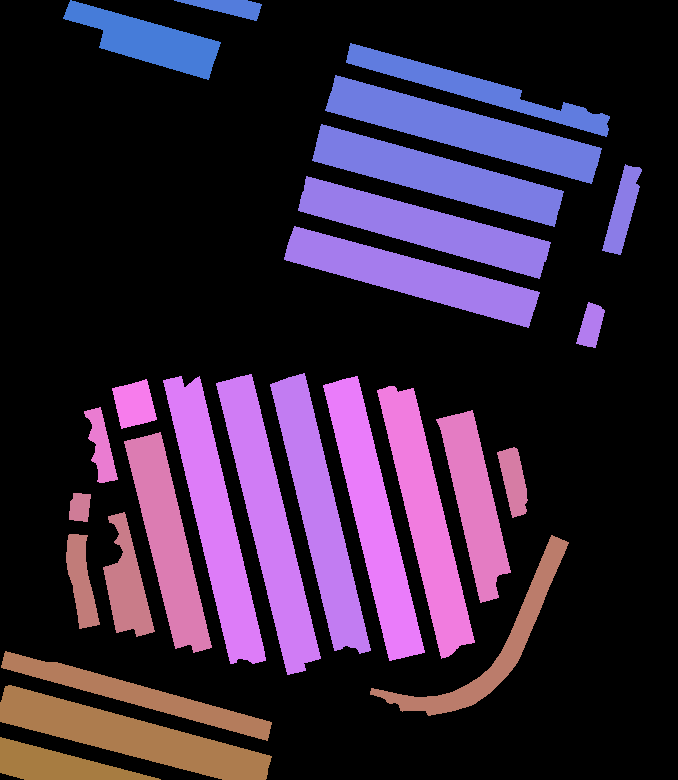parkingspot: (370, 535, 568, 715), (216, 378, 305, 674), (233, 374, 320, 663), (325, 91, 596, 183), (331, 75, 601, 167), (163, 376, 249, 663), (346, 43, 609, 136), (1, 651, 271, 740), (339, 376, 424, 656), (1, 685, 271, 773), (286, 373, 370, 653), (323, 380, 407, 660), (184, 376, 265, 663), (270, 378, 352, 650), (377, 386, 458, 658), (288, 226, 539, 311), (316, 124, 563, 210), (284, 242, 533, 327), (298, 192, 544, 278), (0, 701, 267, 780), (303, 176, 550, 261), (312, 141, 558, 226), (396, 388, 474, 646), (142, 432, 211, 652), (124, 437, 192, 648), (436, 414, 498, 602), (454, 410, 510, 582), (63, 0, 220, 60), (0, 737, 163, 780), (99, 28, 214, 79), (108, 512, 154, 636), (602, 164, 641, 254), (66, 534, 99, 628), (0, 754, 101, 780), (84, 407, 117, 482), (103, 562, 136, 632), (497, 447, 527, 517), (174, 0, 261, 20), (576, 302, 604, 347), (128, 379, 156, 424), (112, 384, 140, 428), (69, 493, 90, 521)
